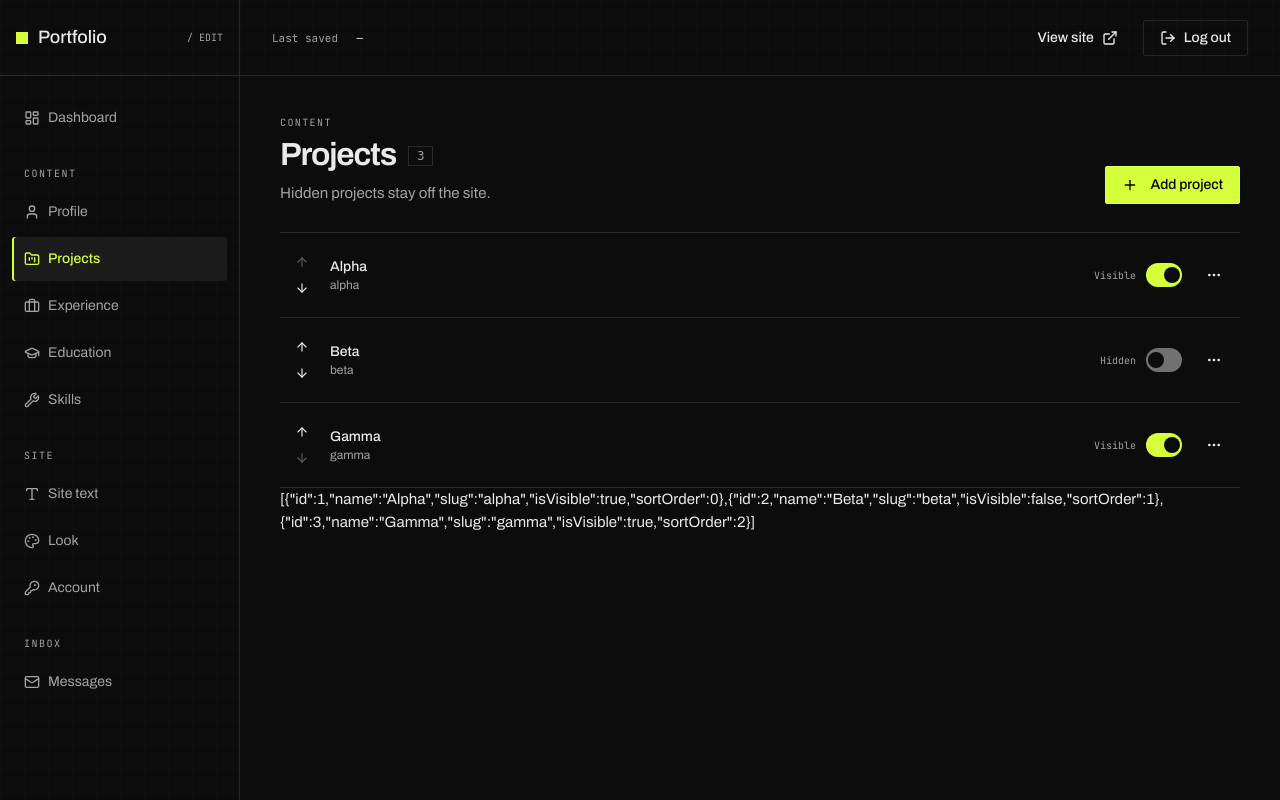
Test: ListEditor › returns focus to the row after the edit sheet closes
This screenshot has width=1280, height=800.
Click the button "Alpha alpha" at (348, 267), box [330, 253, 1080, 297]
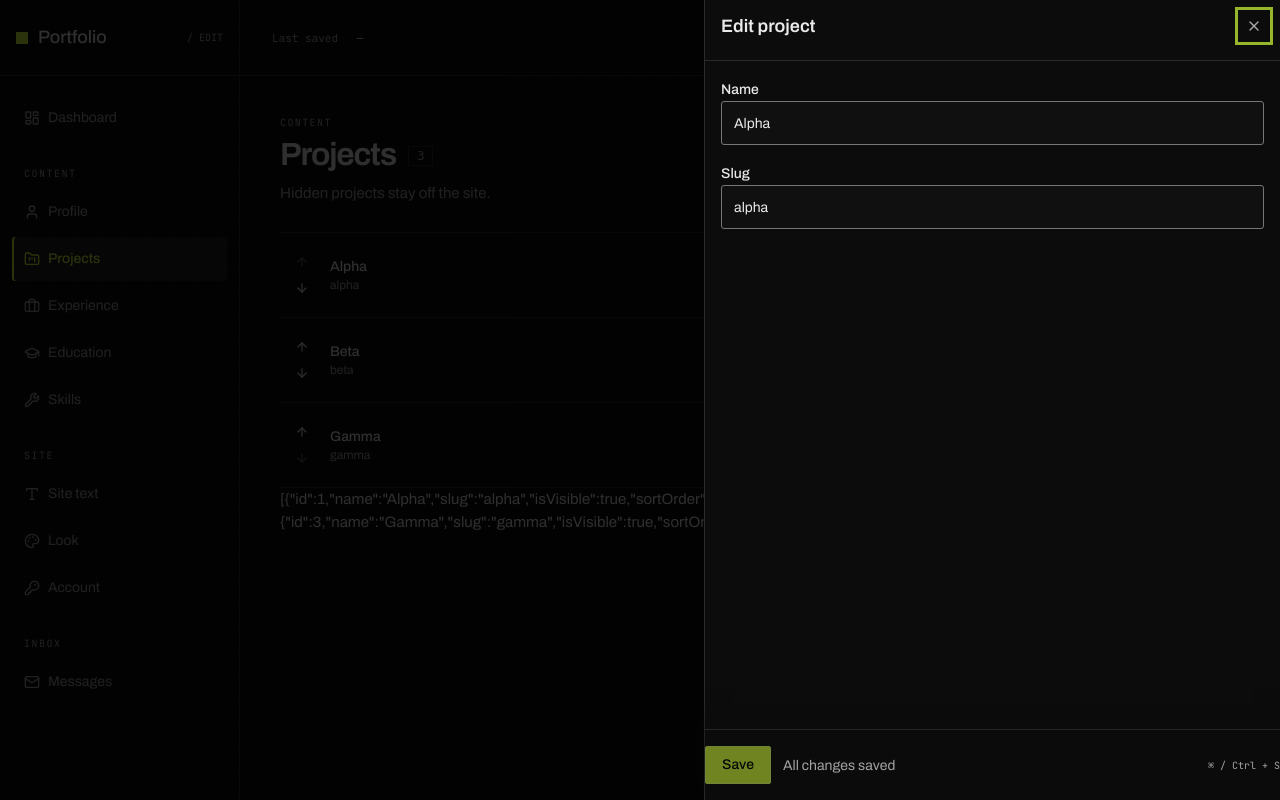
Now the dialog is shown, box [704, 0, 1279, 799]
Press Escape
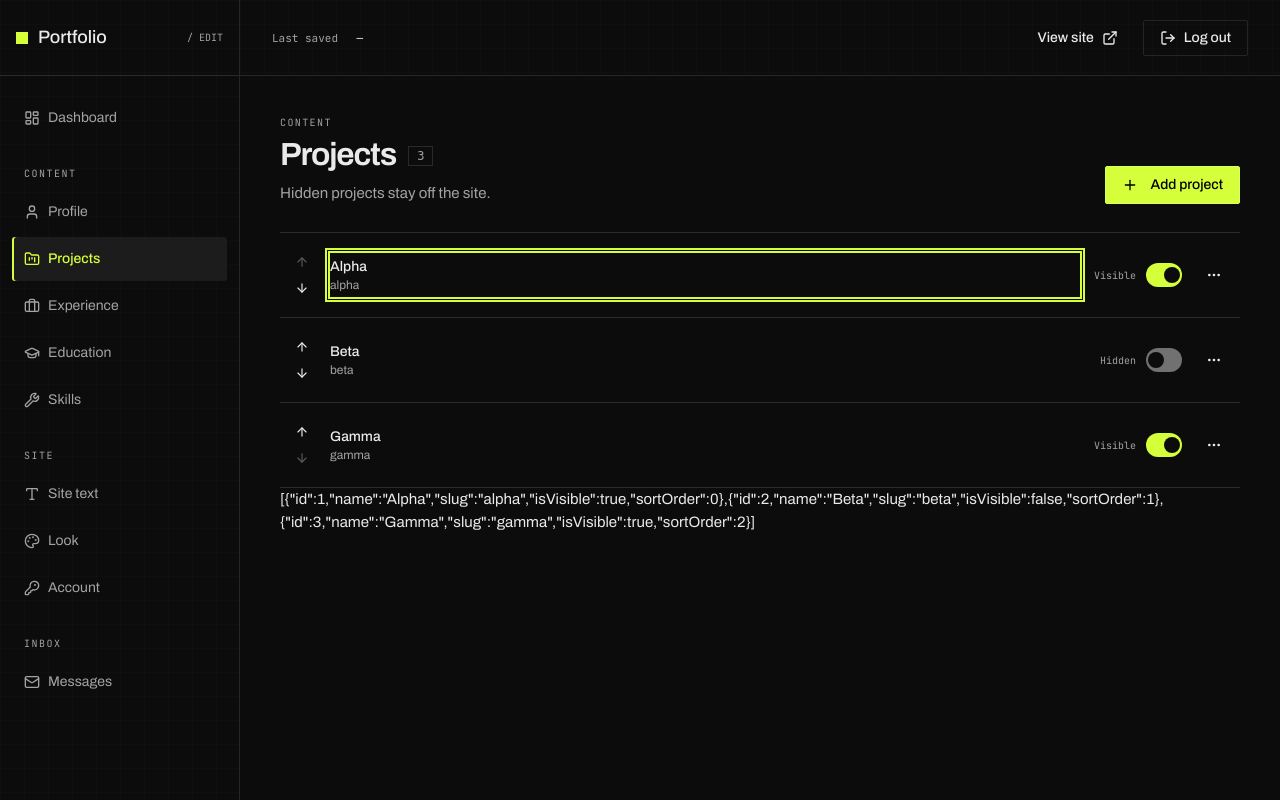
Now the dialog is gone
